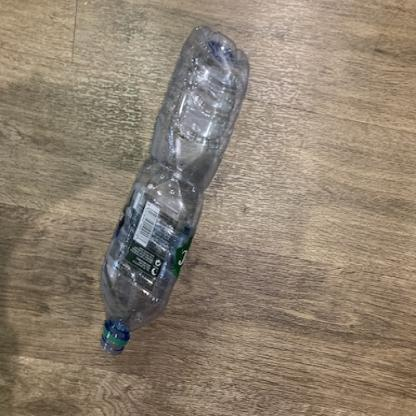trash: (95, 26, 254, 362)
